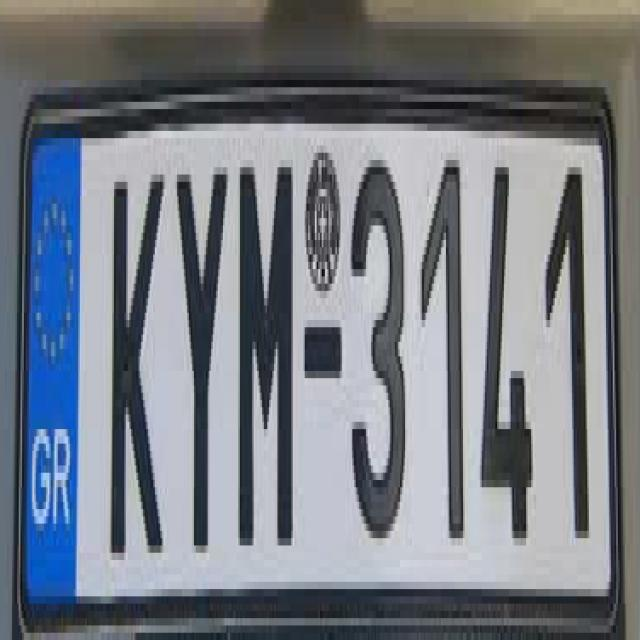EU: (16, 99, 614, 633)
Grece: (22, 125, 82, 612)
